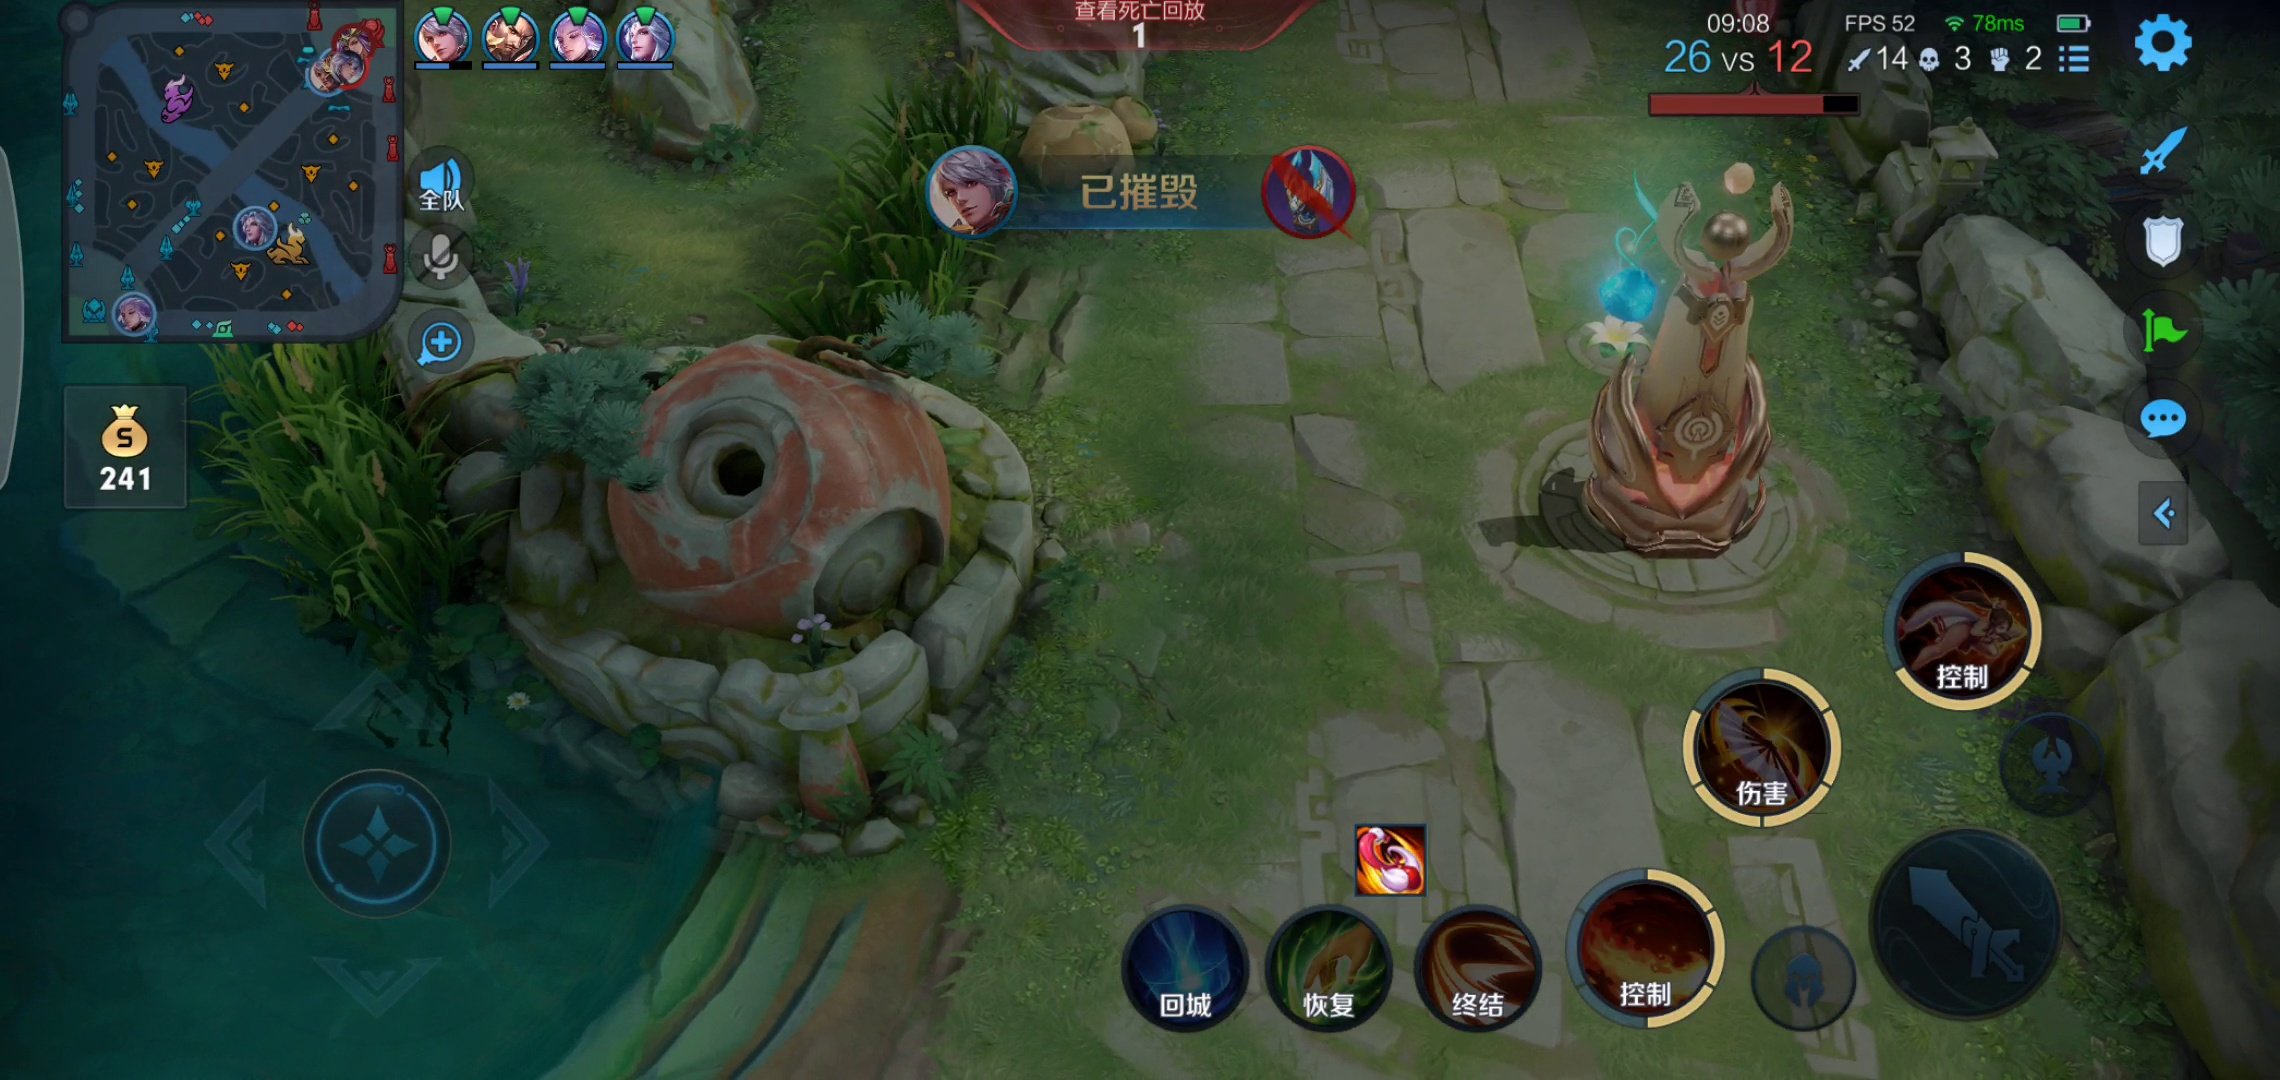grass: (140, 314, 497, 712), (784, 57, 1019, 363)
tower: (1578, 166, 1799, 557)
